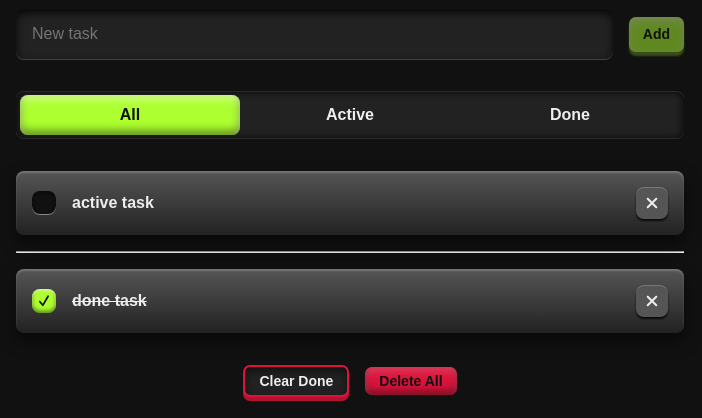
Test: App › lets user delete all done tasks
The width and height of the screenshot is (702, 418).
Click the button "Clear Done": (296, 381) [243,365,349,397]
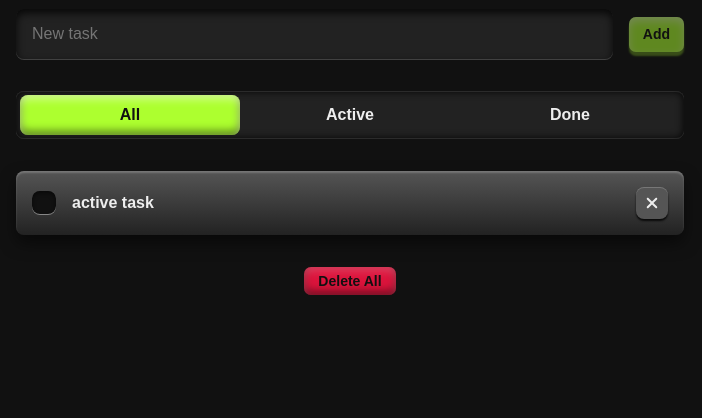
Expected: the number of list items is 1, [16,171,684,235]
